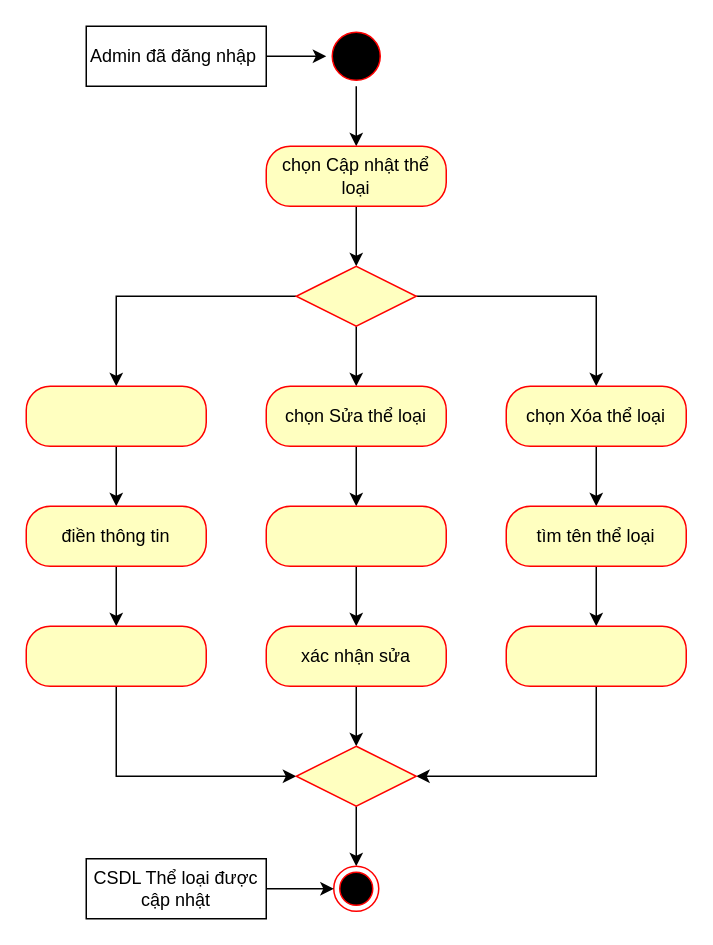
Image size: 713x945. Some labels were removed from this diagram. The shapes that lost their labels are listed below. From the top down, each one's box as (x1, y1, x2, y2) in pixels, then its label:
(25, 385, 206, 446): chọn Thêm thể loại
(265, 505, 446, 566): tìm tên và sửa thông tin
(25, 625, 206, 686): xác nhận thêm
(505, 625, 686, 686): xác nhận xóa
